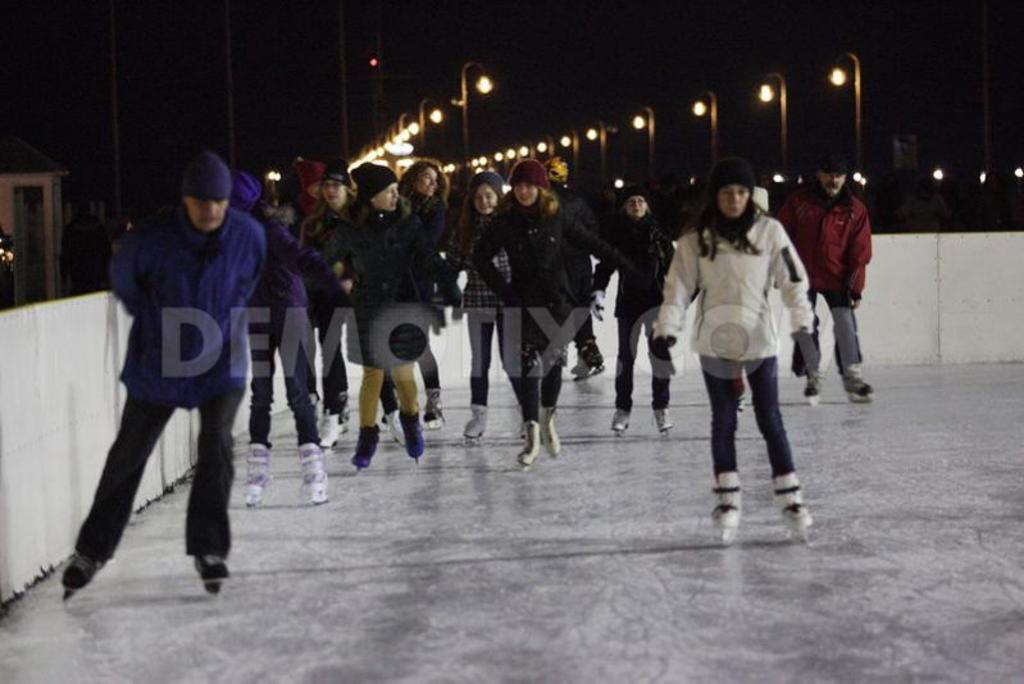face: (187, 191, 228, 232), (720, 182, 751, 220), (475, 184, 501, 214), (515, 178, 540, 206), (823, 165, 846, 195), (324, 176, 347, 204), (377, 183, 399, 211), (418, 168, 438, 197), (628, 198, 646, 218), (308, 180, 326, 198)
